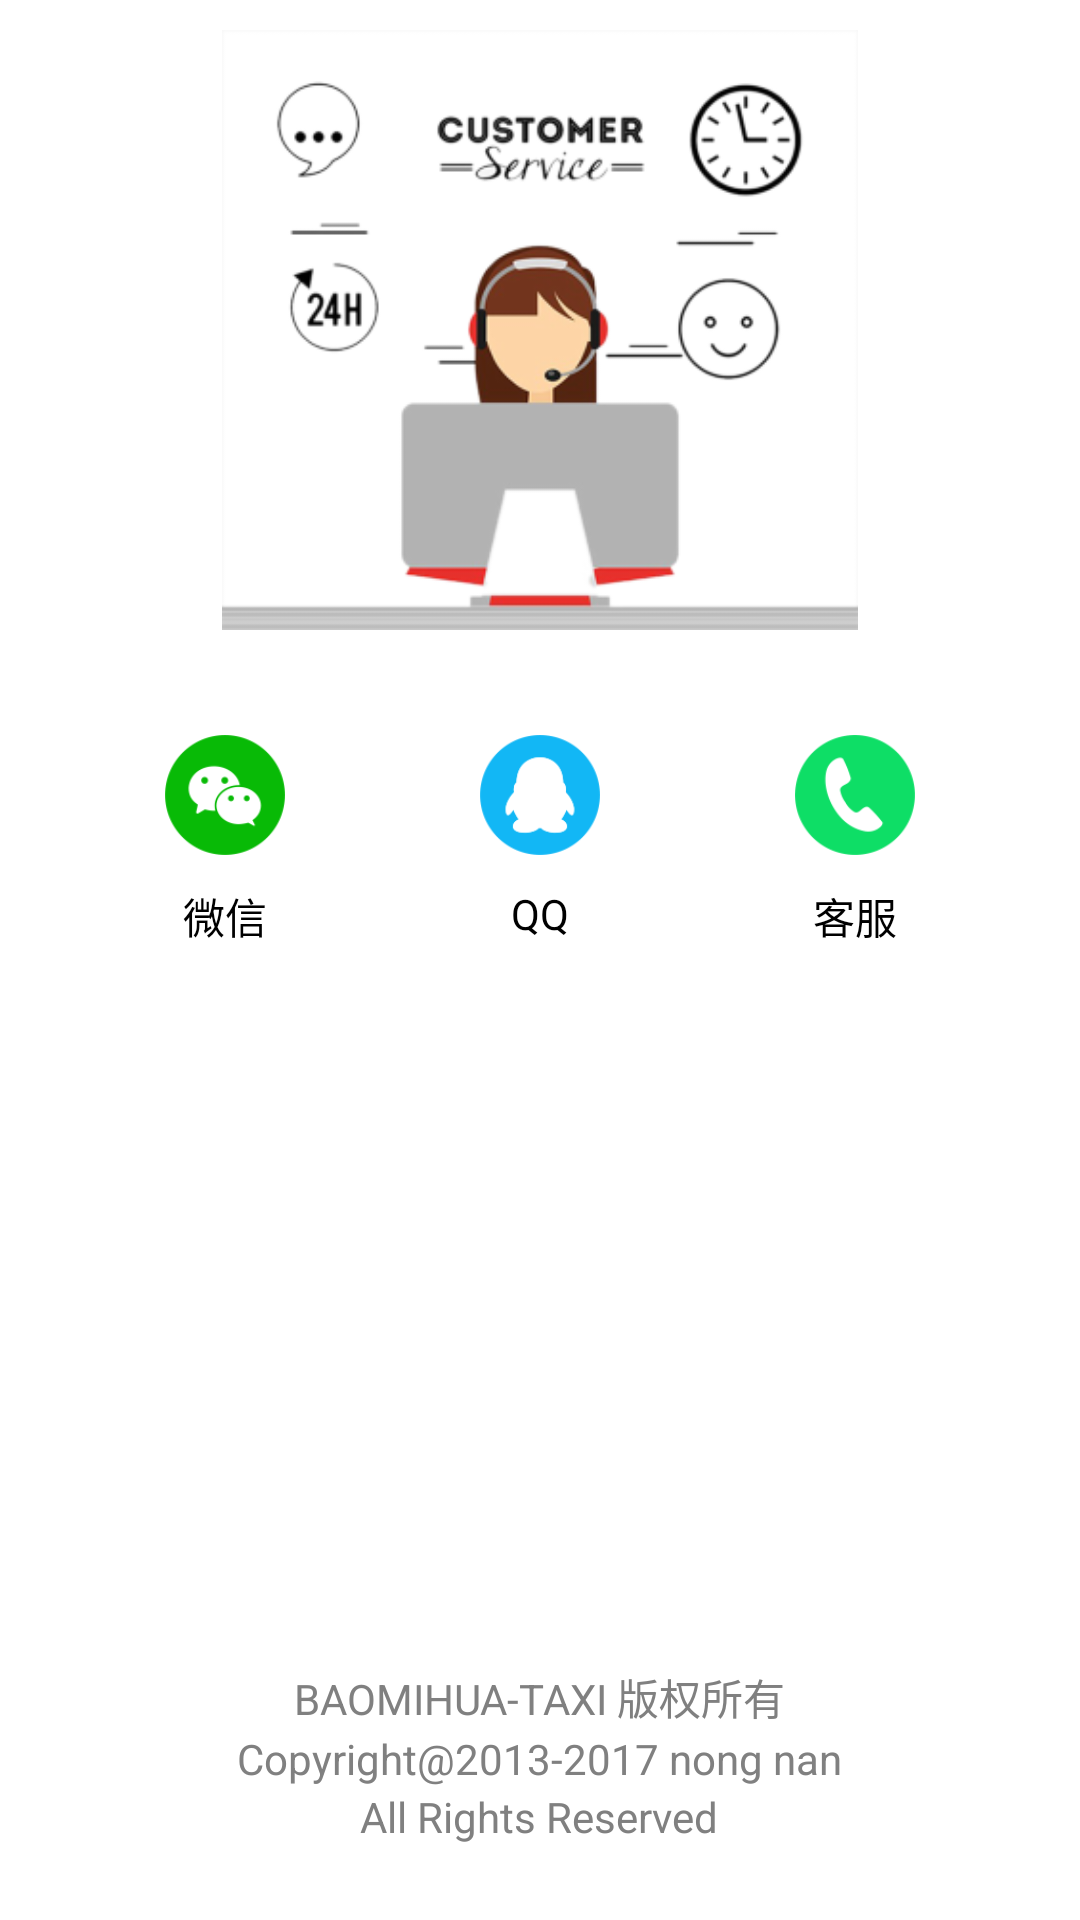

Named icons in this screenshot (1080px x 1920px) and their bounding boxes, [x1,y1,x2,y2]:
mobile: [795,735,915,855]
